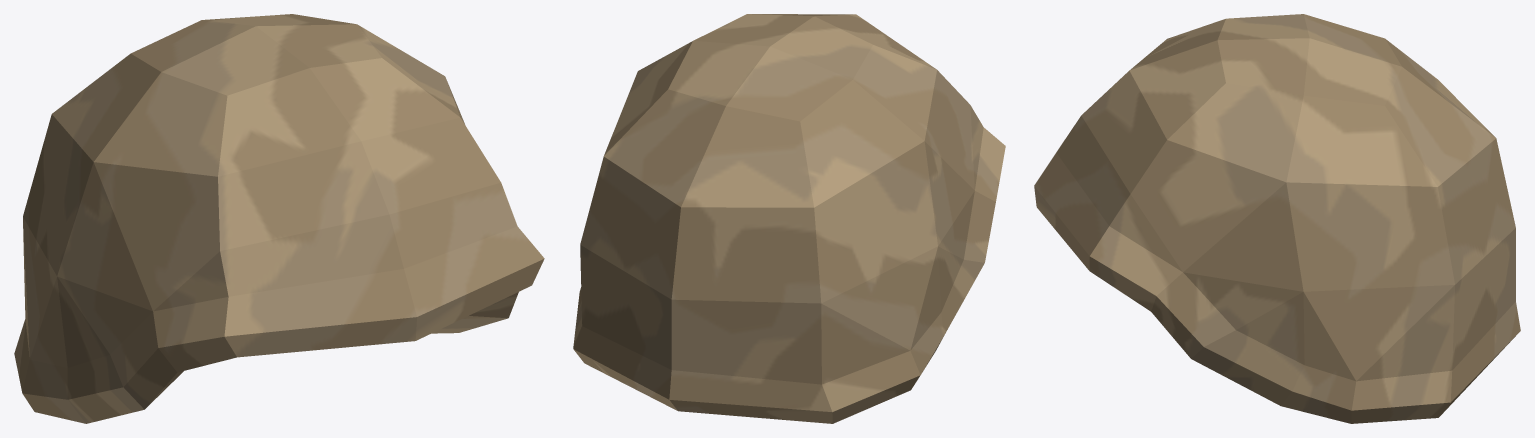
File: SM_Chr_Attach_Helmet_04.fbx
The picture shows the model from 3 angles, left to right: view 1: azimuth 30°, elevation 25°; view 2: azimuth 150°, elevation 25°; view 3: azimuth 270°, elevation 25°; orthographic projection. The views are drawn at different scales.
Parts seen in each view (by area): view 1: SM_Chr_Attach_Helmet_04; view 2: SM_Chr_Attach_Helmet_04; view 3: SM_Chr_Attach_Helmet_04.
Part boxes in pixels (left/top/right/bottom): SM_Chr_Attach_Helmet_04: left=14, top=14, right=544, bottom=423; SM_Chr_Attach_Helmet_04: left=573, top=14, right=1005, bottom=423; SM_Chr_Attach_Helmet_04: left=1034, top=14, right=1520, bottom=423.
Size of the model in its own units: 31.2 by 26.42 by 36.84.
